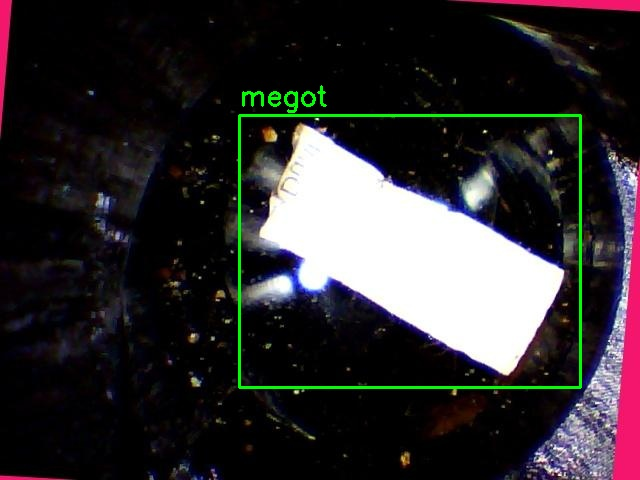megot: (239, 115, 580, 387)
